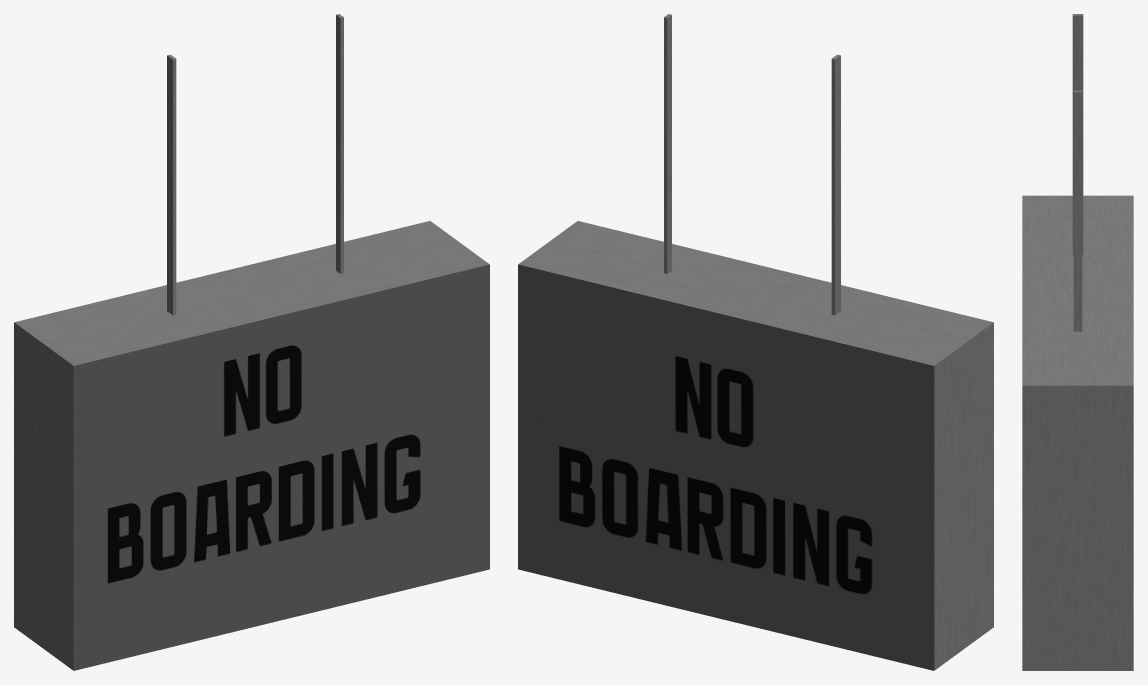
The model's file is posadkinet.gltf.
3 views of the same model, side by side, from view 1: azimuth 30°, elevation 25°; view 2: azimuth 150°, elevation 25°; view 3: azimuth 270°, elevation 25° (orthographic). The views are drawn at different scales.
Visible parts, largest first — view 1: Cube.004; view 2: Cube.004; view 3: Cube.004.
Boxes of the visible parts, <box> form: Cube.004: <box>14,14,489,670</box>; Cube.004: <box>518,14,993,670</box>; Cube.004: <box>1022,14,1133,670</box>.
Bounding box in the file's own units: 1.07 × 1.38 × 0.2658.
1 material, 1 textured.
